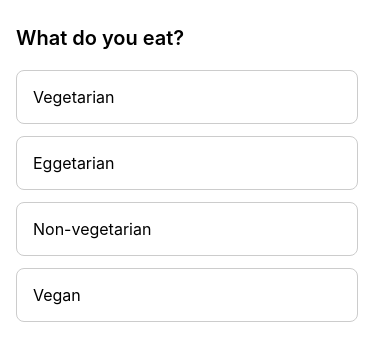
Test: DietTypeScreen › shows an error and does not advance when saving fails
Step 1. Click the element with test id "diet-type-option-vegan" → (187, 295), box [16,268,358,322]
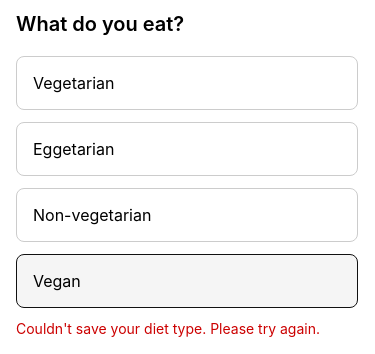
Expected: the text "Couldn't save your diet type. Please try again." is shown, [16,320,358,336]
